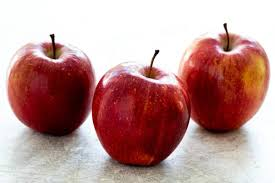apple: (91, 48, 192, 169), (178, 22, 270, 133), (4, 32, 98, 138)
